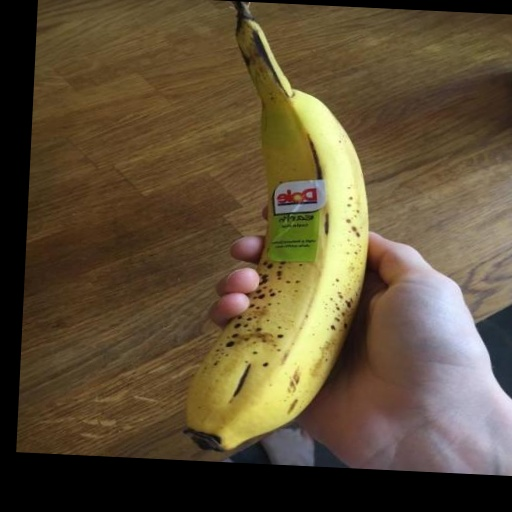fruit: (185, 1, 367, 450)
